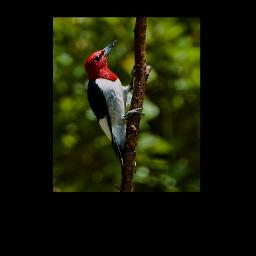Woodpecker: (84, 41, 144, 173)
